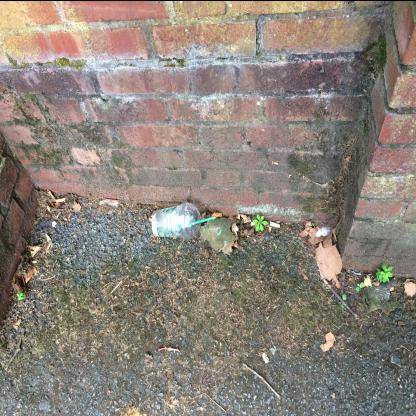plastik: (152, 200, 216, 240)
